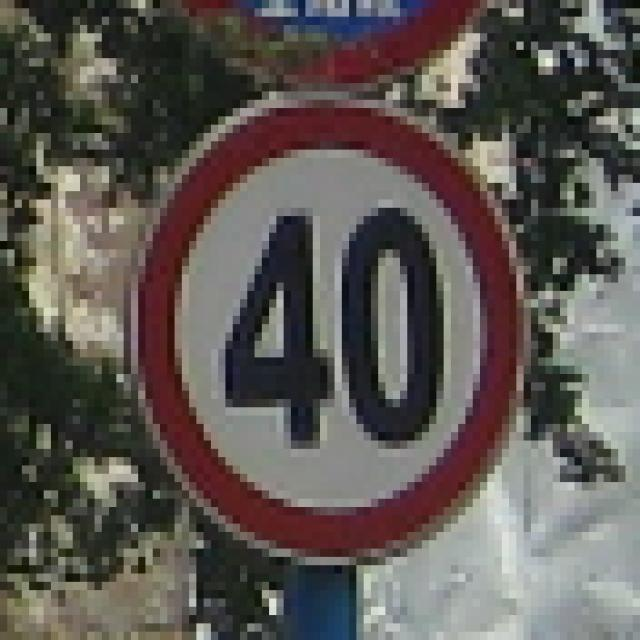Speed: (135, 89, 526, 572)
